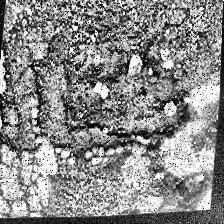pothole: (0, 0, 202, 178), (171, 171, 215, 215)
